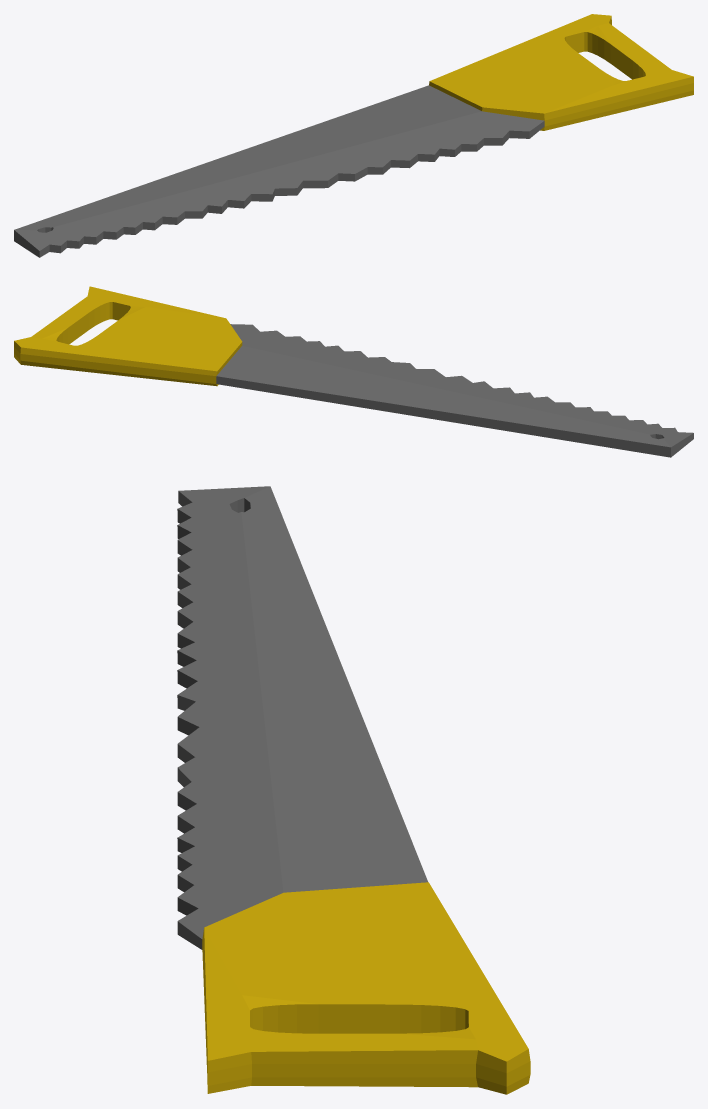
Rendered from LudumDareSaw 1.fbx.
The picture shows the model from 3 angles, top to bottom: view 1: azimuth 30°, elevation 25°; view 2: azimuth 150°, elevation 25°; view 3: azimuth 270°, elevation 25°; orthographic projection. The views are drawn at different scales.
Visible parts, largest first — view 1: Saw.001, Saw; view 2: Saw.001, Saw; view 3: Saw.001, Saw.
Part boxes in pixels (x1,y1,x2,y2): Saw.001: (14, 85, 544, 257); Saw: (429, 14, 693, 130); Saw.001: (216, 324, 693, 457); Saw: (14, 286, 242, 386); Saw.001: (177, 486, 427, 949); Saw: (202, 882, 530, 1094).
Size of the model in its own units: 105 by 3.24 by 26.9.
